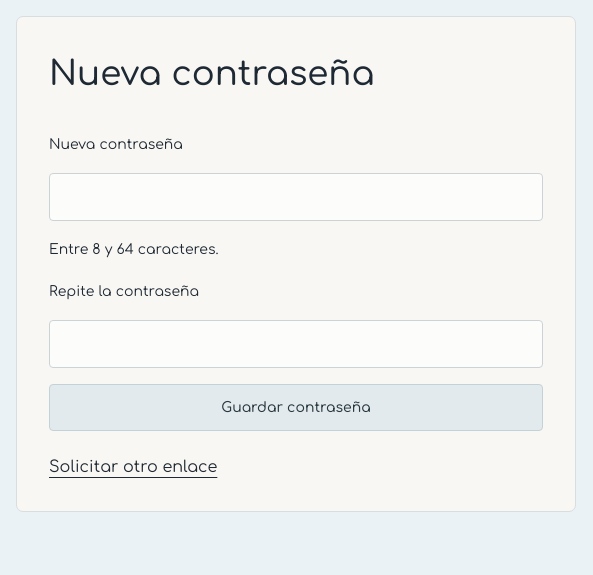
Test case: Recuperación de contraseña › rechaza contraseñas diferentes sin enviar la petición
Type "NewPassword123" into the password field with id "new-password" at (296, 197), box [49, 173, 543, 221]
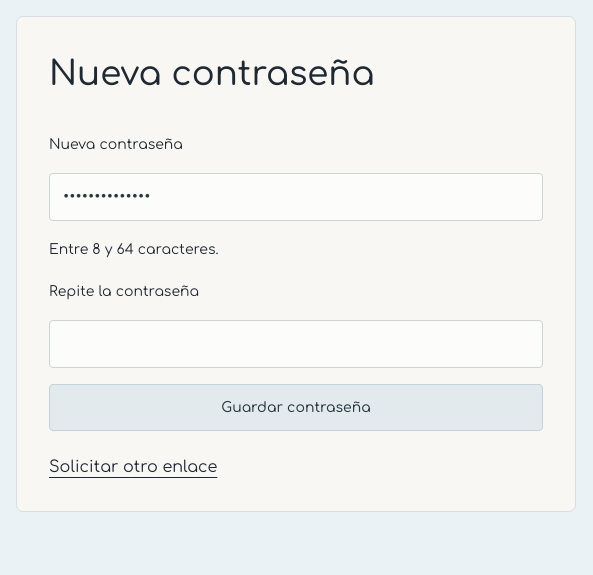
Type "DifferentPassword123" into the password field with id "confirm-password" at (296, 344), box [49, 320, 543, 368]
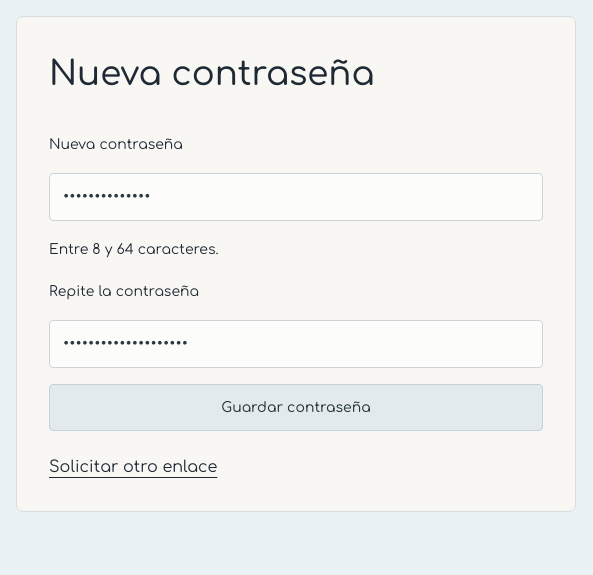
Submit the form, box [49, 132, 543, 431]
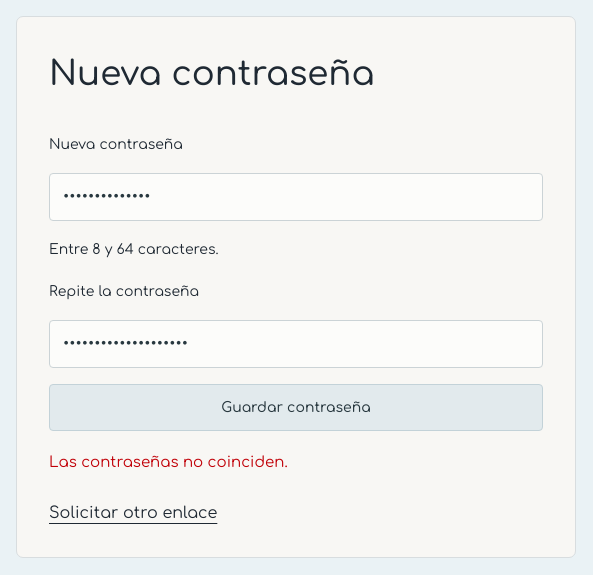
Expected: the message "Las contraseñas no coinciden." is shown, [49, 454, 288, 471]
